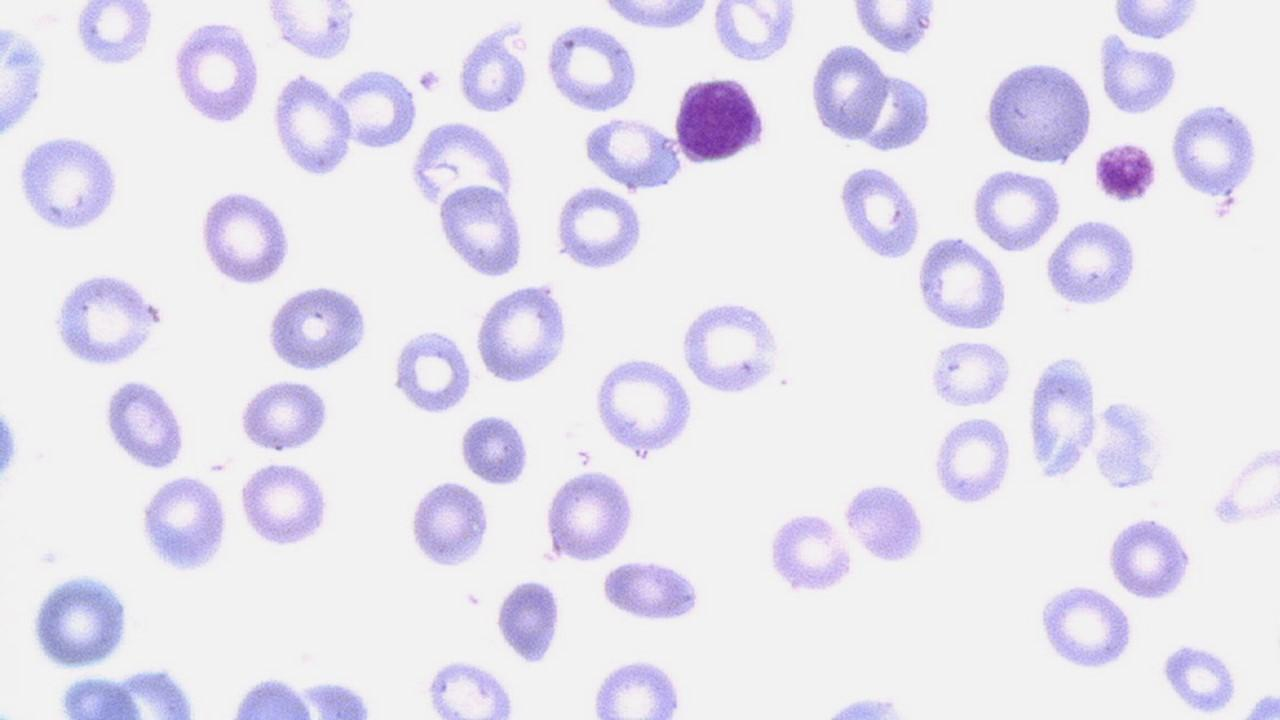Platelets: (416, 67, 444, 94)
RBC: (981, 55, 1097, 168), (48, 267, 170, 370), (13, 129, 126, 236), (676, 294, 788, 398), (25, 568, 135, 672), (592, 352, 697, 458), (472, 280, 573, 387), (410, 121, 518, 221), (262, 281, 373, 375), (1025, 350, 1103, 483), (170, 18, 263, 128), (194, 187, 294, 288), (914, 230, 1010, 335), (138, 469, 230, 578), (1040, 213, 1140, 312), (542, 17, 640, 116), (543, 464, 637, 567), (435, 177, 528, 280), (1035, 579, 1135, 674), (270, 68, 355, 179), (1167, 99, 1259, 201), (834, 160, 924, 264), (99, 374, 190, 474), (578, 111, 687, 194), (236, 458, 331, 552), (47, 666, 211, 718), (406, 476, 494, 572), (928, 412, 1016, 508), (1104, 512, 1196, 603), (806, 40, 888, 142), (969, 166, 1064, 254), (765, 507, 856, 596), (552, 184, 644, 272), (850, 65, 938, 156), (389, 325, 476, 416), (596, 556, 706, 627), (1090, 396, 1172, 491), (456, 16, 533, 117), (236, 374, 332, 455), (841, 479, 929, 566), (217, 675, 386, 718), (1097, 31, 1179, 119), (335, 66, 417, 153), (1, 11, 51, 152), (1156, 638, 1242, 716), (927, 335, 1015, 410), (586, 655, 690, 718), (259, 2, 364, 64), (494, 578, 566, 668), (419, 656, 521, 717), (1211, 440, 1279, 531), (709, 1, 796, 66), (72, 2, 156, 68), (458, 412, 530, 488), (848, 1, 940, 58), (1091, 134, 1161, 206), (1106, 1, 1210, 42), (594, 0, 714, 33), (820, 692, 908, 718), (0, 401, 21, 490), (1242, 690, 1280, 720)
WBC: (671, 70, 771, 168)
